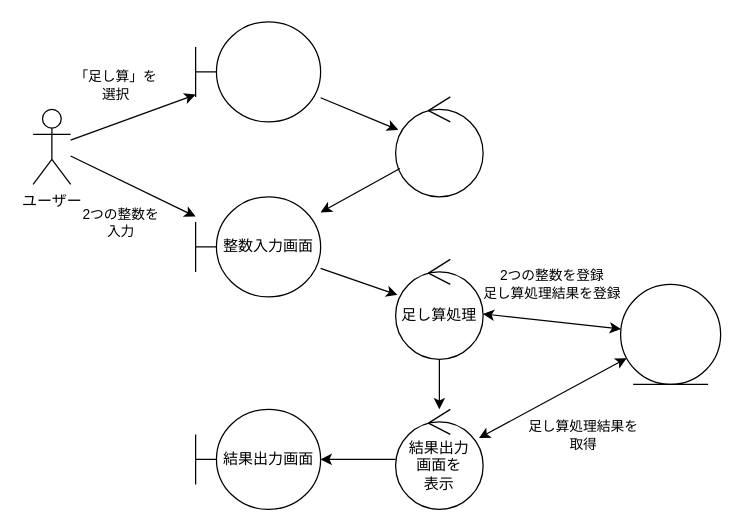
Image size: 743x531. Some labels were removed from this diagram. Here are the shapes that lost their labels. From the top down, the box of each, then its label:
(194, 21, 321, 122): メニュー画面
(394, 96, 483, 197): 整数入力 画面表示
(619, 283, 721, 384): RoboDog
